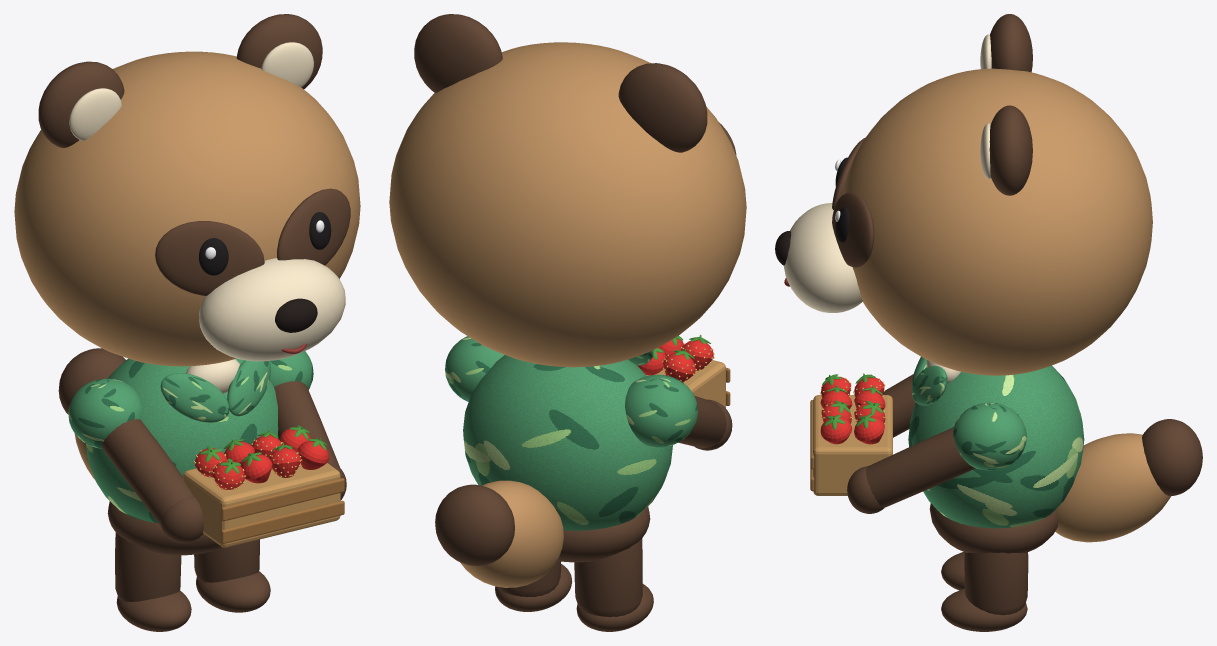
File: nook.glb
3 renders of one model, left to right at view 1: azimuth 30°, elevation 25°; view 2: azimuth 150°, elevation 25°; view 3: azimuth 270°, elevation 25°, orthographic. The views are drawn at different scales.
Parts seen in each view (by area): view 1: Nook.Head, Nook.Muzzle, Nook.Shirt, Nook.Crate, Nook.Mask.R, Nook.Arm.R, Nook.Ear.R, Nook.Sleeve.R, Nook.Mask.L, Nook.Leg.R, Nook.Ear.L, Nook.Collar-1 (+25 smaller); view 2: Nook.Head, Nook.Shirt, Nook.Tail, Nook.Ear.R, Nook.TailTip, Nook.Ear.L, Nook.Sleeve.R, Nook.Leg.R, Nook.Hips, Nook.Sleeve.L, Nook.Arm.R, Nook.Foot.R (+5 smaller); view 3: Nook.Head, Nook.Shirt, Nook.Tail, Nook.Muzzle, Nook.Arm.L, Nook.Crate, Nook.Sleeve.L, Nook.Leg.L, Nook.TailTip, Nook.Hips, Nook.Ear.L, Nook.Mask.L (+8 smaller).
Boxes of the visible parts, left/top/right/bottom form: Nook.Head: left=14, top=51, right=360, bottom=366; Nook.Muzzle: left=199, top=258, right=345, bottom=361; Nook.Shirt: left=86, top=358, right=278, bottom=523; Nook.Crate: left=183, top=463, right=340, bottom=547; Nook.Mask.R: left=155, top=221, right=264, bottom=295; Nook.Arm.R: left=101, top=419, right=201, bottom=533; Nook.Ear.R: left=38, top=61, right=124, bottom=147; Nook.Sleeve.R: left=68, top=378, right=141, bottom=448; Nook.Mask.L: left=277, top=188, right=350, bottom=265; Nook.Leg.R: left=115, top=532, right=181, bottom=601; Nook.Ear.L: left=236, top=14, right=322, bottom=88; Nook.Collar-1: left=160, top=373, right=229, bottom=422; Nook.Head: left=389, top=42, right=746, bottom=367; Nook.Shirt: left=463, top=355, right=672, bottom=530; Nook.Tail: left=460, top=480, right=563, bottom=587; Nook.Ear.R: left=618, top=63, right=707, bottom=152; Nook.TailTip: left=435, top=484, right=514, bottom=565; Nook.Ear.L: left=414, top=14, right=502, bottom=92; Nook.Sleeve.R: left=625, top=374, right=697, bottom=447; Nook.Leg.R: left=574, top=538, right=642, bottom=616; Nook.Hips: left=557, top=506, right=650, bottom=562; Nook.Sleeve.L: left=445, top=336, right=504, bottom=401; Nook.Arm.R: left=678, top=395, right=726, bottom=448; Nook.Foot.R: left=576, top=584, right=653, bottom=631; Nook.Head: left=843, top=68, right=1152, bottom=375; Nook.Shirt: left=908, top=365, right=1084, bottom=528; Nook.Tail: left=1055, top=433, right=1170, bottom=542; Nook.Muzzle: left=784, top=203, right=862, bottom=312; Nook.Arm.L: left=847, top=427, right=975, bottom=507; Nook.Crate: left=813, top=395, right=892, bottom=495; Nook.Sleeve.L: left=953, top=402, right=1026, bottom=470; Nook.Leg.L: left=964, top=552, right=1028, bottom=615; Nook.TailTip: left=1142, top=419, right=1202, bottom=496; Nook.Hips: left=929, top=503, right=1058, bottom=553; Nook.Ear.L: left=989, top=105, right=1032, bottom=195; Nook.Mask.L: left=832, top=192, right=874, bottom=267.
Size of the model in its own units: 0.51 by 0.9015 by 0.6421.
13 materials, 1 textured.
